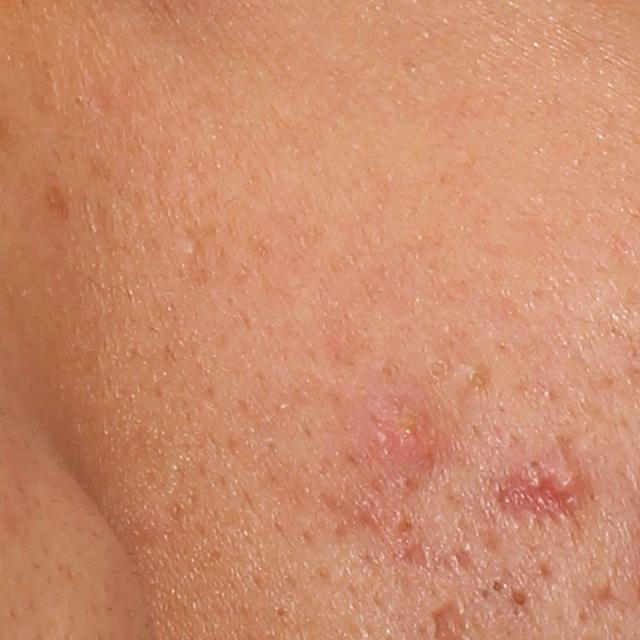atrophic_scar: (309, 396, 504, 580), (478, 433, 611, 563)
comedo: (505, 587, 534, 610), (424, 358, 452, 381), (462, 371, 493, 391), (181, 238, 200, 257), (490, 579, 507, 593), (479, 589, 493, 600)
melasma: (33, 177, 81, 225)
